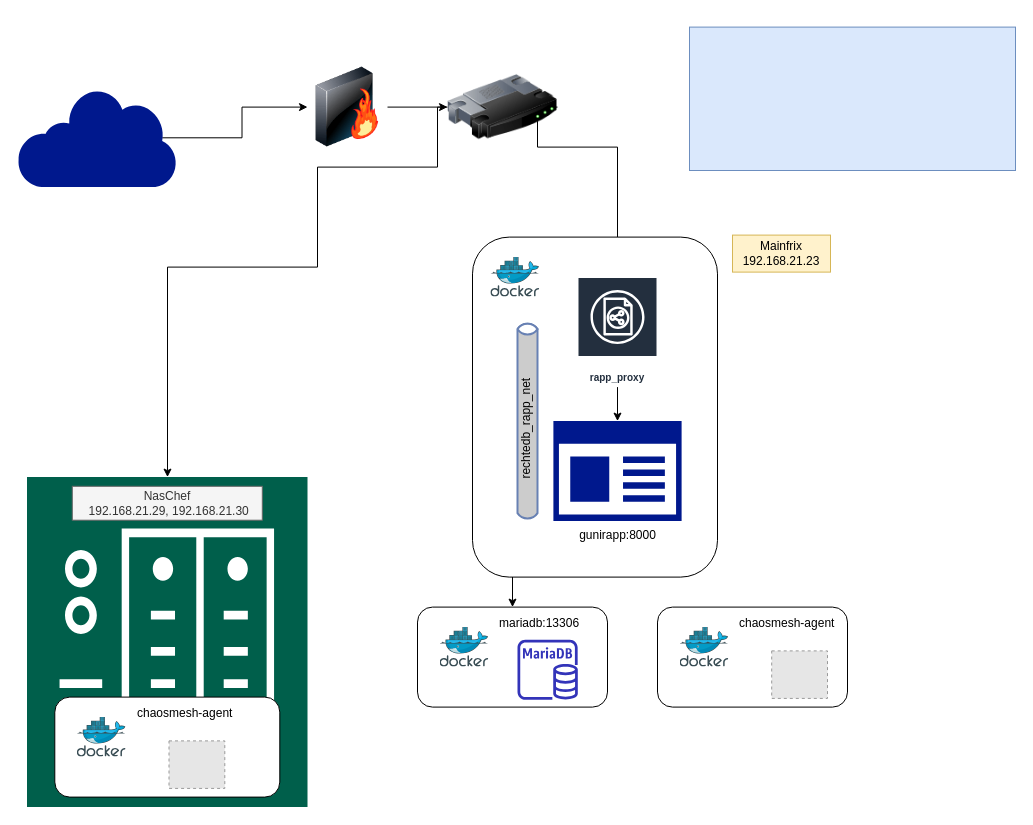
The diagram is 1033 pixels wide and 825 high, and some of its shapes have lost their labels. Grey dashed boxes stand in for pictures. Here are the shapes that lost their labels. From the top down, the centre of each, then its label:
the point at 852,98: Komponenten-Übersicht Grobe Darstellung zum ChaosMesh-Einsatz Stand: 29.03.2020
the point at 96,137: frickler.eichler-web.de:8081
